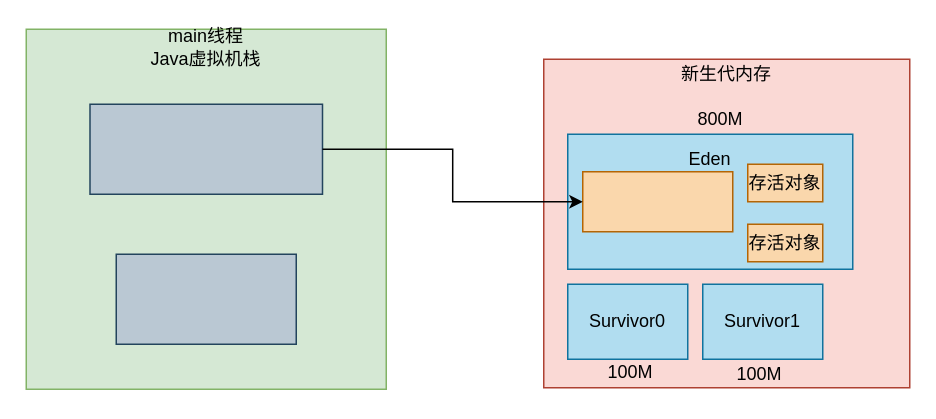
The diagram is 936 pixels wide and 419 high, and some of its shapes have lost their labels. Each missing label, with the centre of its shape:
"loadReplicasFromDisk() 栈帧 局部变量：replicaManager" belongs at pixel 205 148.
"main() 栈帧 局部变量" belongs at pixel 205 298.
"ReplicaManager实例对象" belongs at pixel 657 201.
